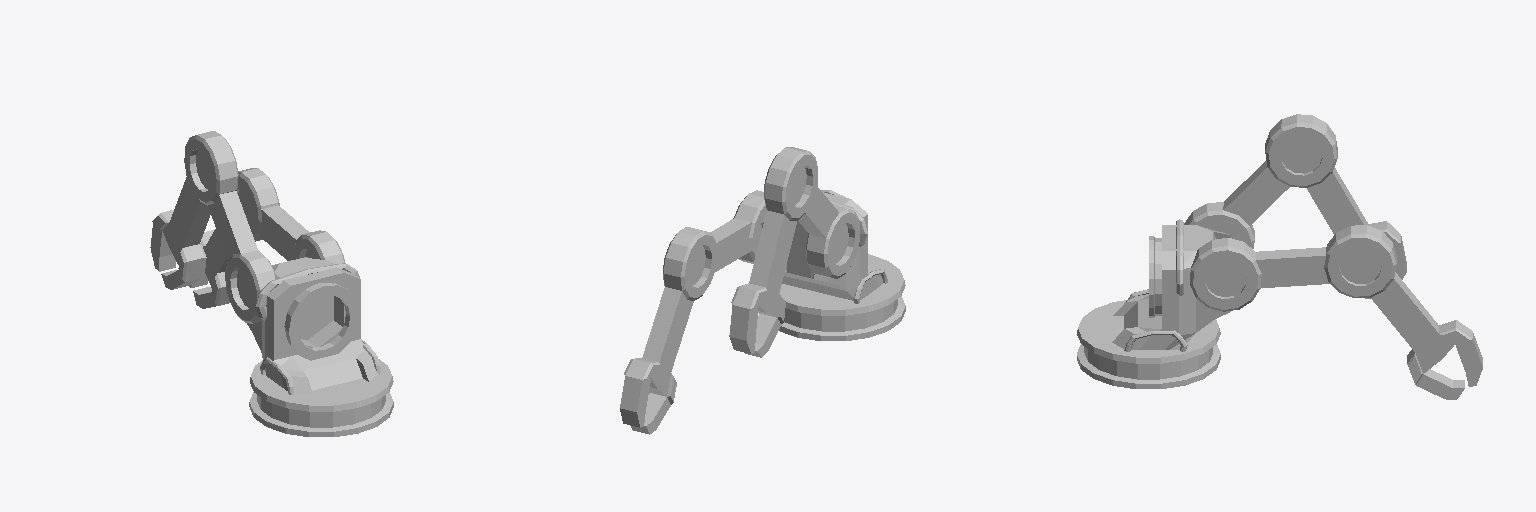
The model's file is RepairTurret.obj.
3 views of the same model, side by side, from view 1: azimuth 30°, elevation 25°; view 2: azimuth 150°, elevation 25°; view 3: azimuth 270°, elevation 25° (orthographic).
Size of the model in its own units: 4.23 by 7.95 by 12.11.